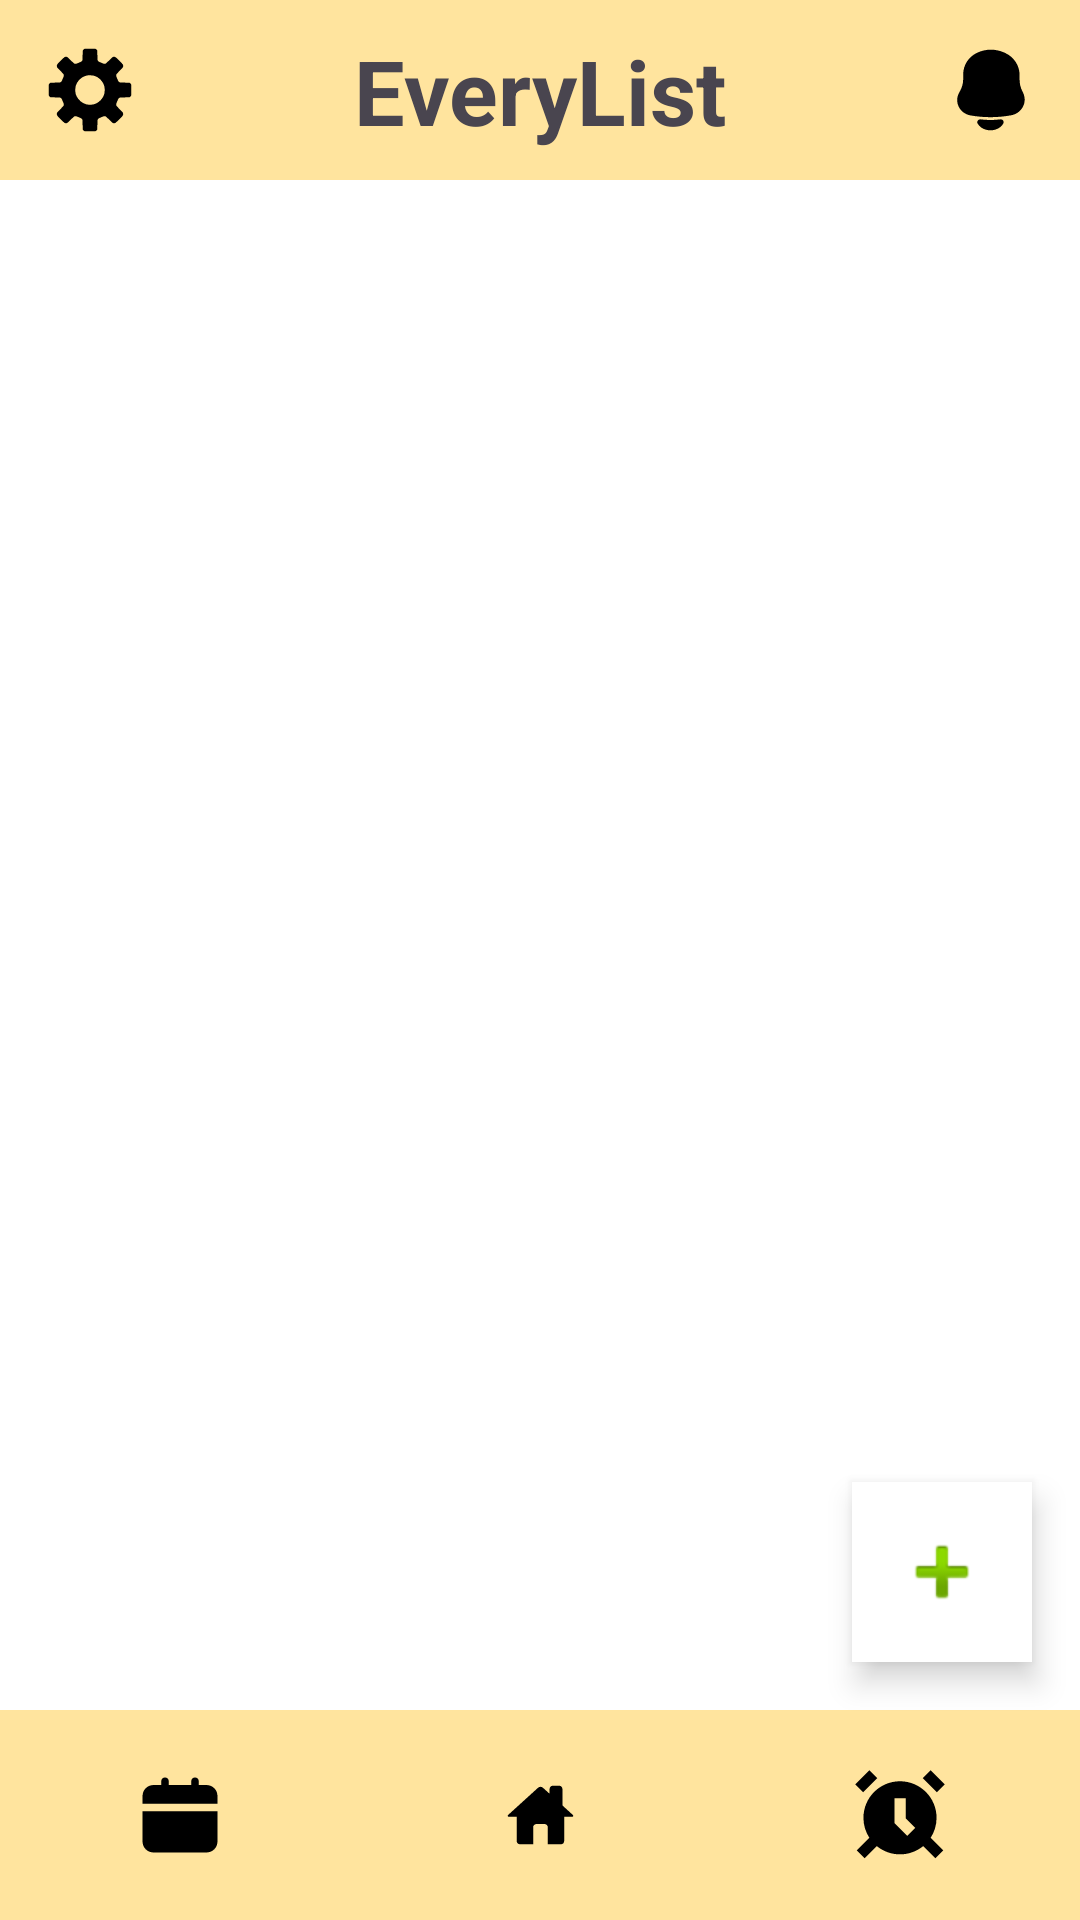

Icon click points for this 1080px x 1920px phone screenshot, format point (x, y):
Agregar nueva lista: point (942, 1572)
alarm clock: point (900, 1814)
Ir al calendario: point (180, 1815)
Ir al inicio: point (540, 1815)
notification bell: point (991, 90)
